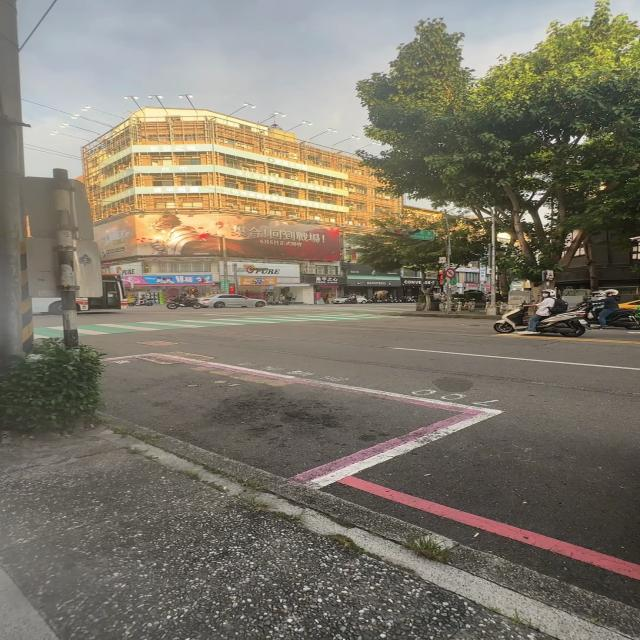bus: (75, 275, 126, 311), (31, 298, 62, 315)
car: (201, 294, 267, 308)
crosswalk: (78, 313, 428, 337), (262, 306, 416, 313), (31, 325, 63, 339)
motocycle: (536, 311, 589, 338), (494, 306, 527, 334), (607, 309, 640, 330)
